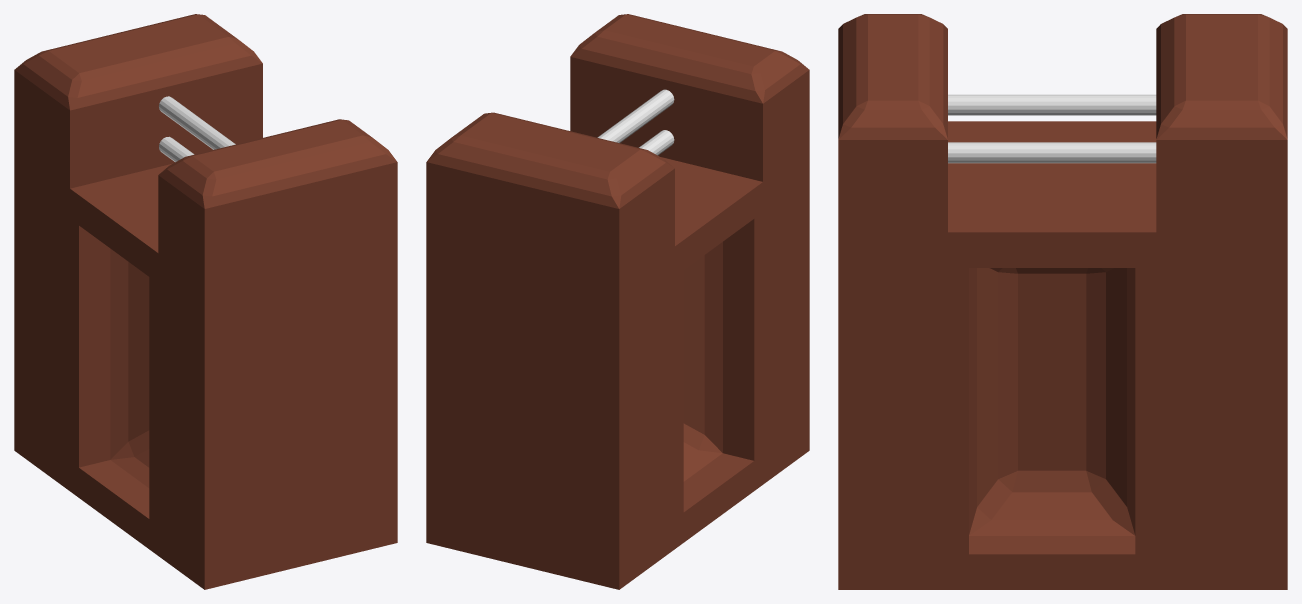
Rendered from Industrial_Single_BrickFence.fbx.
3 renders of one model, left to right at view 1: azimuth 30°, elevation 25°; view 2: azimuth 150°, elevation 25°; view 3: azimuth 270°, elevation 25°, orthographic. The views are drawn at different scales.
Parts seen in each view (by area): view 1: Single_Brick_Fence; view 2: Single_Brick_Fence; view 3: Single_Brick_Fence.
Boxes of the visible parts, x1=… form: Single_Brick_Fence: x1=14, y1=14, x2=397, y2=589; Single_Brick_Fence: x1=426, y1=14, x2=809, y2=589; Single_Brick_Fence: x1=838, y1=14, x2=1287, y2=589.
Bounding box in the file's own units: 200 × 400 × 342.
